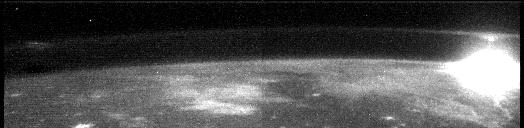negative: (471, 32, 511, 48)
